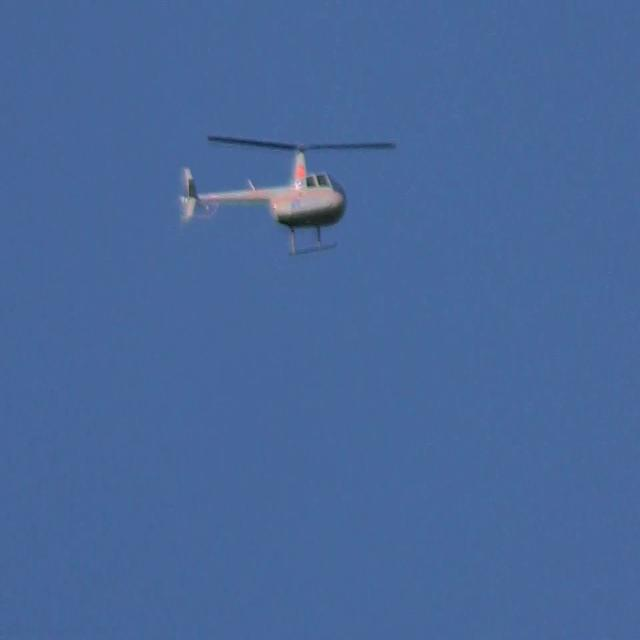CIV_HELO: (179, 139, 349, 258)
